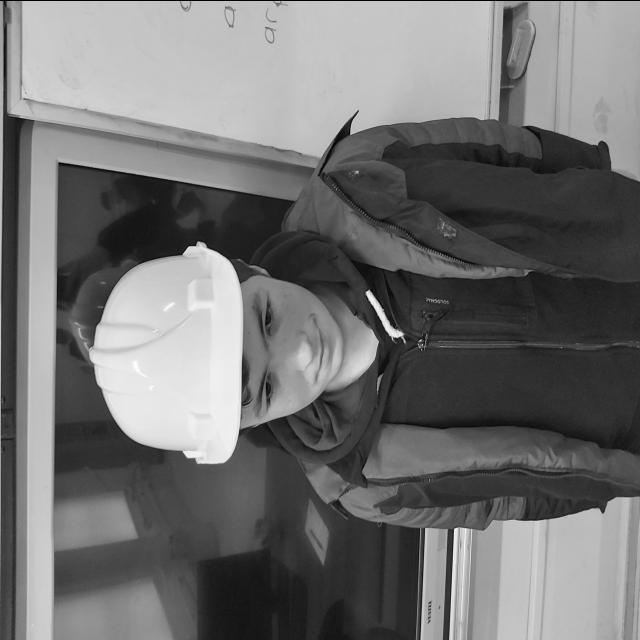safety_helmet: (92, 241, 247, 465)
